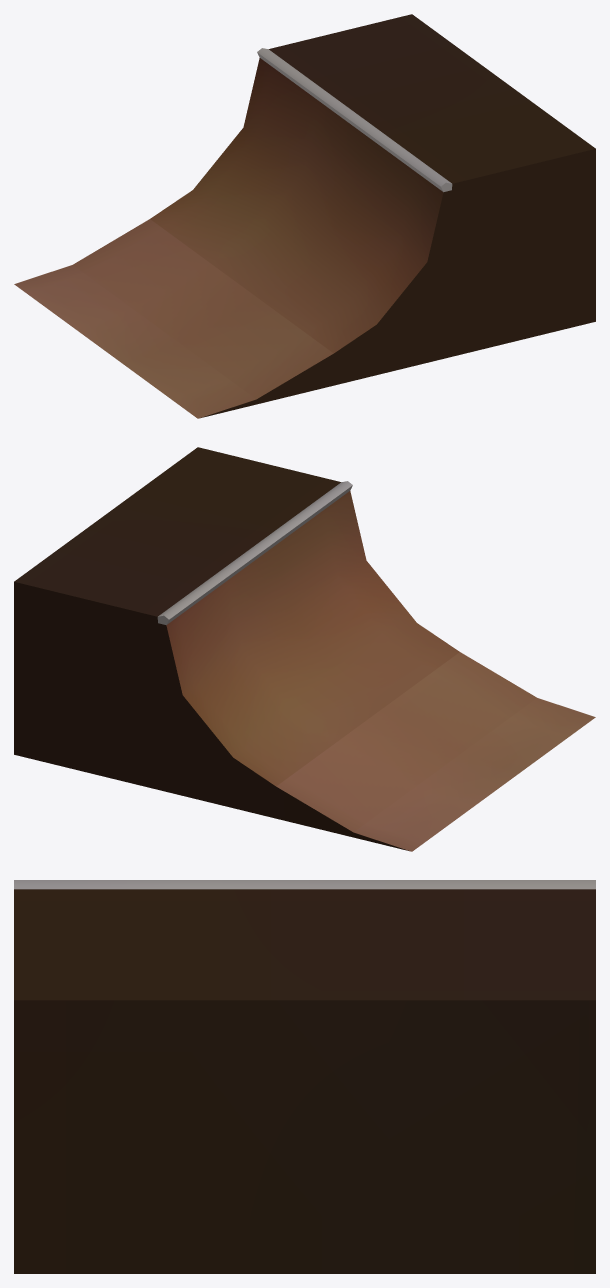
File: SkateboardQuarterpipe.glb
The picture shows the model from 3 angles, top to bottom: view 1: azimuth 30°, elevation 25°; view 2: azimuth 150°, elevation 25°; view 3: azimuth 270°, elevation 25°; orthographic projection. The views are drawn at different scales.
Parts seen in each view (by area): view 1: SkateboardQuarterpipe; view 2: SkateboardQuarterpipe; view 3: SkateboardQuarterpipe.
Part boxes in pixels (bbox=[...]): SkateboardQuarterpipe: bbox=[14, 14, 595, 418]; SkateboardQuarterpipe: bbox=[14, 447, 595, 851]; SkateboardQuarterpipe: bbox=[14, 880, 595, 1273].
Bounding box in the file's own units: 5 × 2.11 × 4.
1 material, 1 textured.
